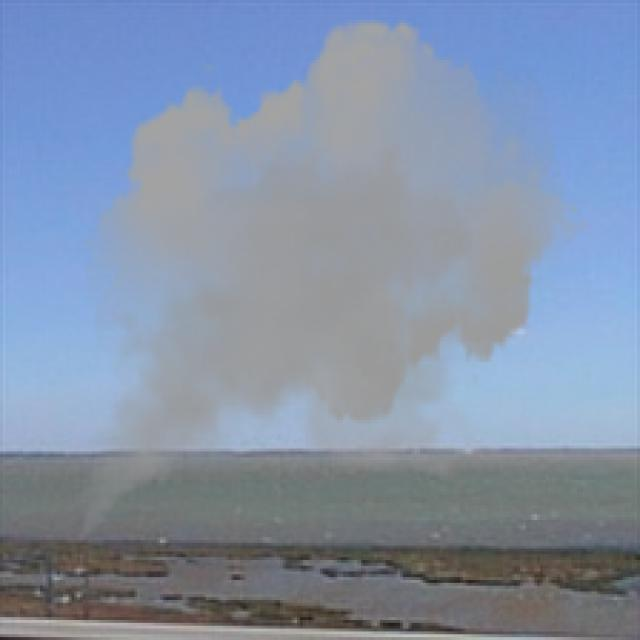Smoke: (66, 2, 592, 568)
